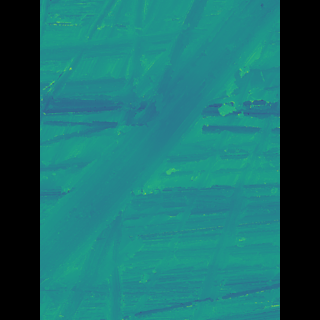Loch: (69, 0, 250, 294)
